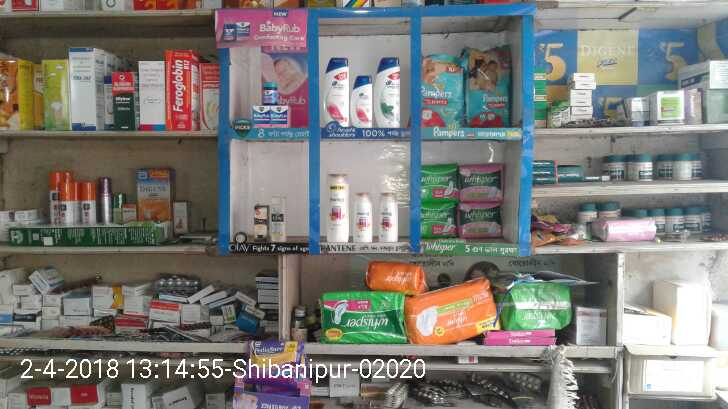vicks: (253, 80, 289, 129)
